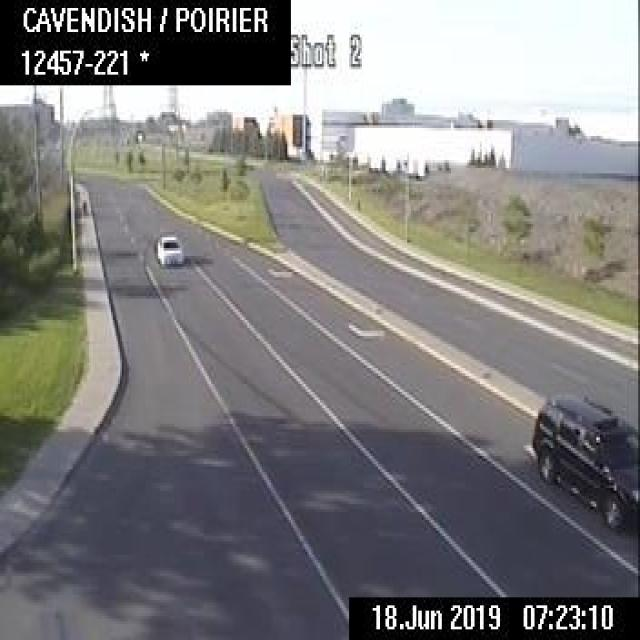vehicle: (529, 389, 638, 534), (154, 233, 182, 265)
